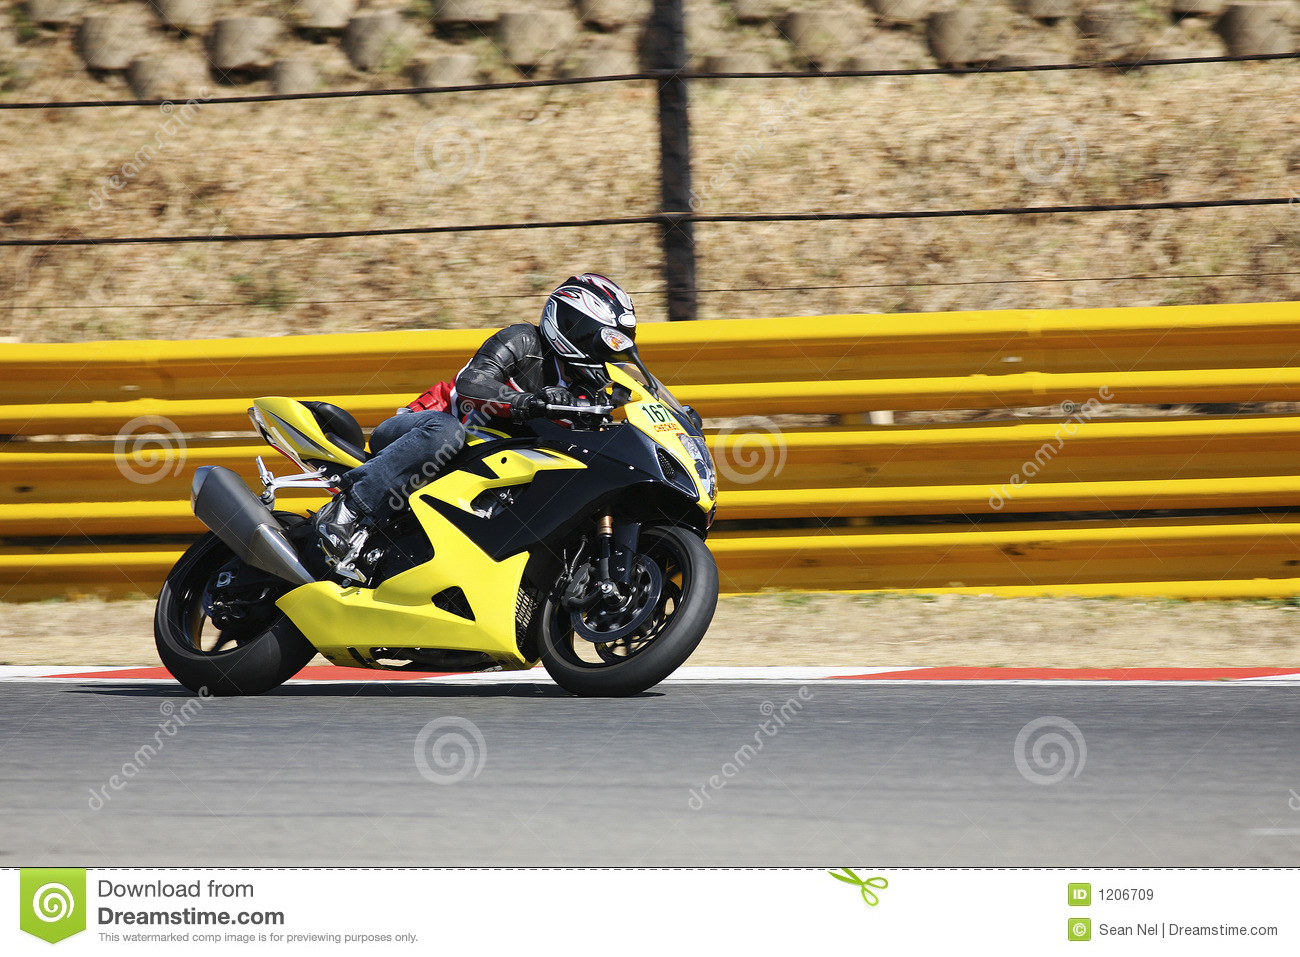helmet: (536, 261, 649, 380)
